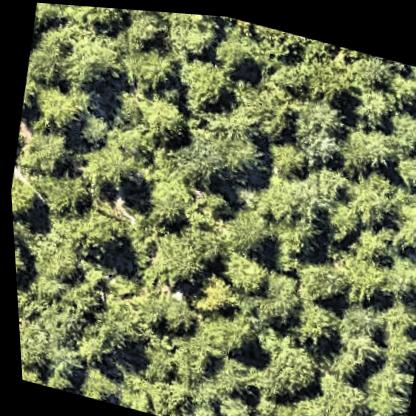tree-top: (176, 107, 265, 192), (243, 163, 329, 238), (116, 81, 198, 159), (222, 70, 304, 147), (132, 222, 215, 296), (257, 186, 332, 266), (248, 331, 325, 406), (279, 90, 353, 168), (166, 46, 240, 119), (85, 271, 152, 351), (334, 156, 404, 232), (40, 202, 126, 263), (56, 22, 124, 97), (67, 137, 141, 204), (23, 75, 93, 143), (104, 360, 189, 416), (327, 113, 396, 181), (29, 162, 97, 230), (321, 241, 389, 309), (132, 166, 198, 236), (111, 35, 181, 101), (9, 119, 76, 186), (347, 351, 413, 416), (182, 303, 251, 365), (137, 278, 204, 341), (21, 230, 85, 293), (323, 293, 385, 356), (153, 9, 225, 63), (299, 364, 370, 416), (282, 289, 342, 350), (211, 199, 271, 259), (292, 42, 352, 102), (22, 29, 77, 94), (209, 242, 270, 300), (284, 250, 346, 305), (182, 262, 239, 321), (157, 336, 217, 392), (342, 209, 401, 265), (344, 76, 402, 130), (237, 17, 304, 63), (251, 263, 305, 319), (259, 129, 313, 182), (127, 332, 178, 388), (30, 292, 81, 344), (65, 320, 115, 372), (316, 190, 366, 242), (373, 244, 416, 303), (70, 4, 139, 40), (206, 21, 256, 69), (65, 358, 117, 403), (371, 316, 416, 367), (377, 99, 416, 155), (68, 107, 114, 154), (383, 193, 416, 253), (14, 310, 46, 370), (202, 384, 253, 416), (8, 174, 39, 226), (386, 141, 416, 190), (382, 60, 416, 98), (11, 233, 30, 293), (30, 2, 60, 37), (17, 360, 51, 387), (179, 399, 218, 416), (238, 404, 280, 416), (296, 408, 357, 416), (409, 83, 416, 123)
